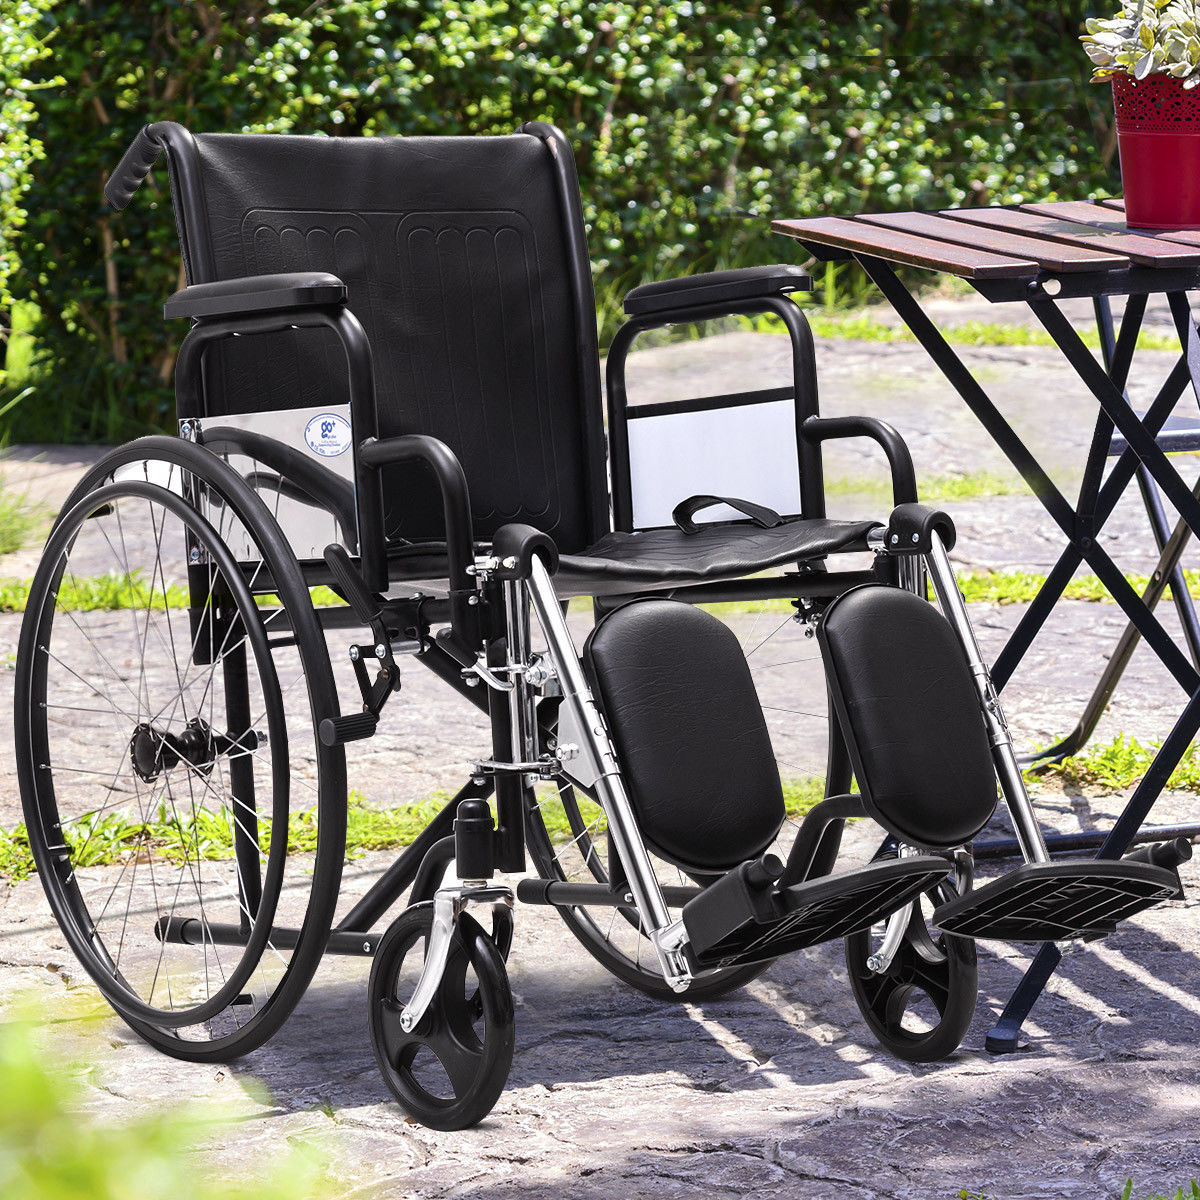wheelchair: (25, 91, 1085, 1119)
